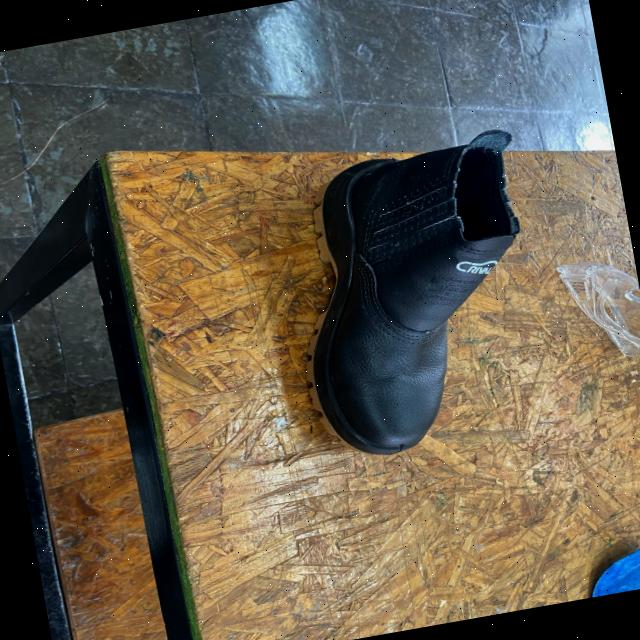BOTA: (306, 128, 523, 456)
